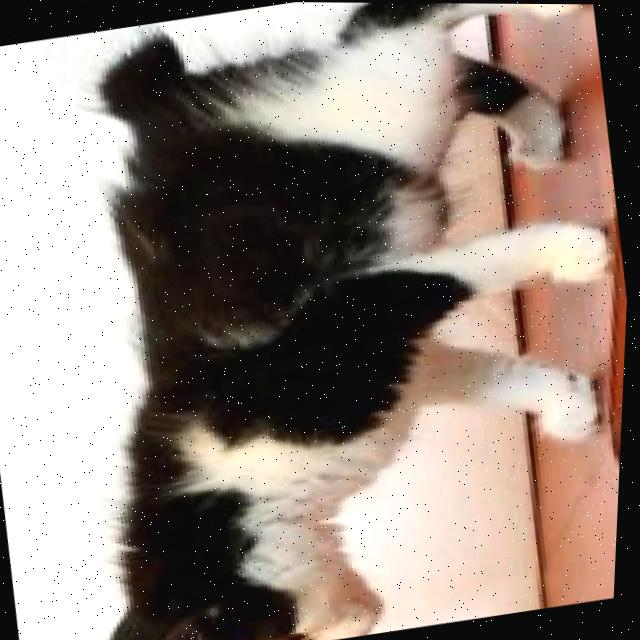American Bobtail: (1, 0, 640, 640)
